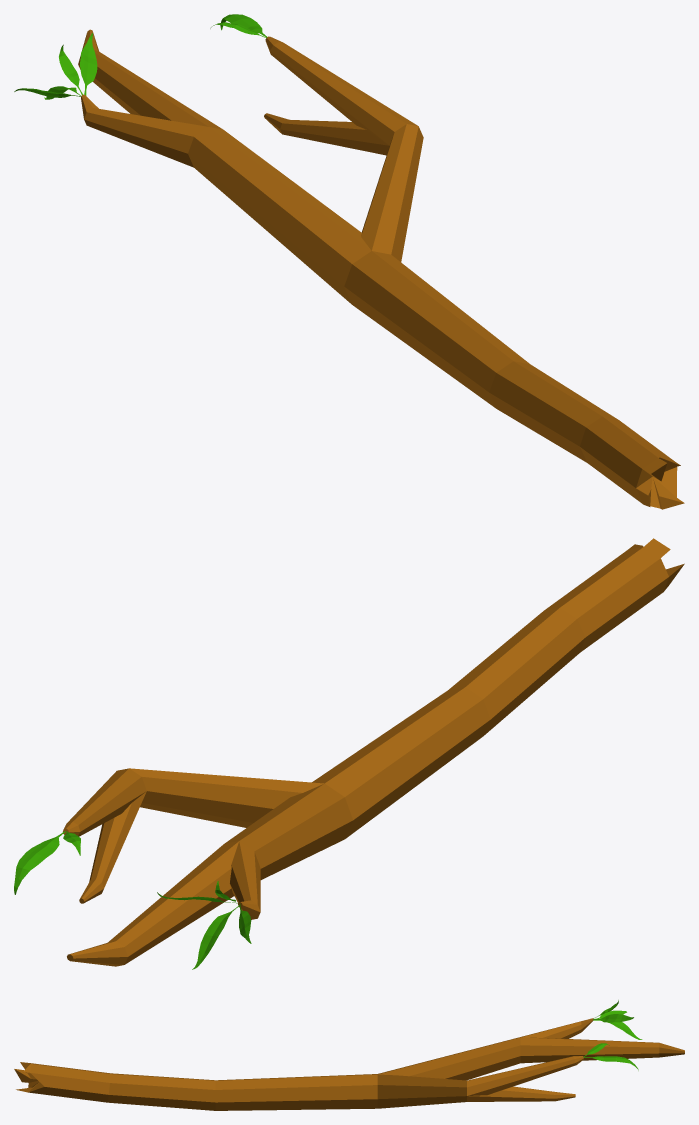
File: stick_02.fbx
3 views of the same model, one above another, from view 1: azimuth 30°, elevation 25°; view 2: azimuth 150°, elevation 25°; view 3: azimuth 270°, elevation 25° (orthographic). The views are drawn at different scales.
Parts seen in each view (by area): view 1: Stick; view 2: Stick; view 3: Stick.
Boxes of the visible parts, x1=… form: Stick: x1=14, y1=14, x2=684, y2=509; Stick: x1=14, y1=538, x2=684, y2=969; Stick: x1=14, y1=1000, x2=684, y2=1110.
Size of the model in its own units: 122 by 60.47 by 446.
